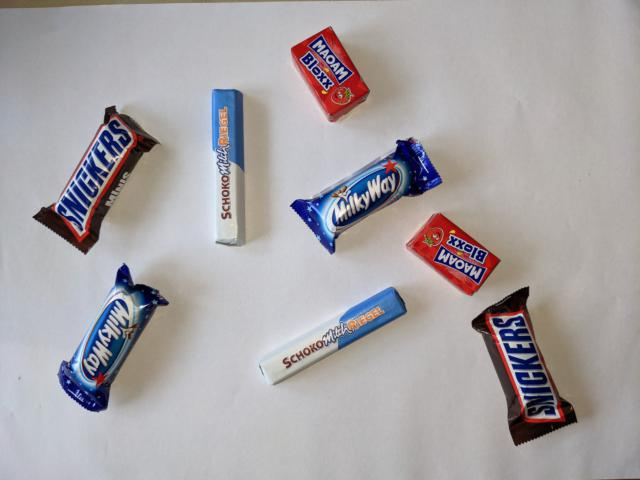MAOAM: (403, 209, 504, 298), (287, 22, 372, 124)
MilkyWay: (287, 135, 446, 256), (54, 262, 172, 415)
Schokoriegel: (253, 285, 410, 390), (206, 86, 251, 251)
Snickers: (29, 103, 164, 258), (468, 283, 582, 449)
